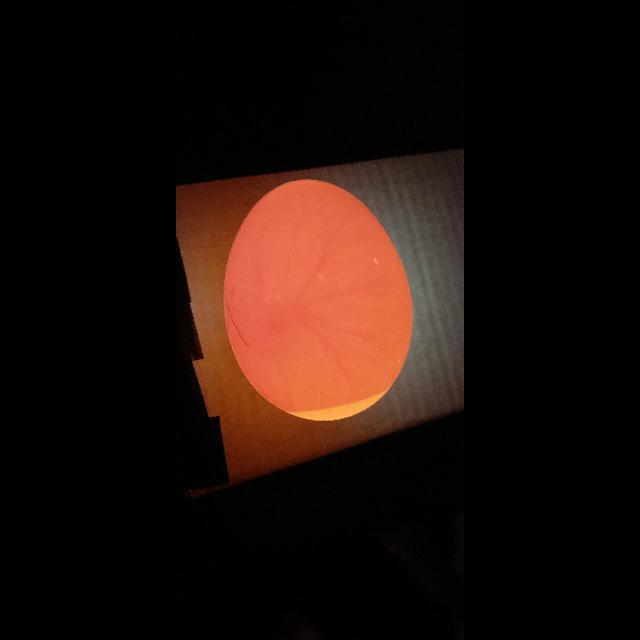Fertile: (221, 178, 411, 424)
